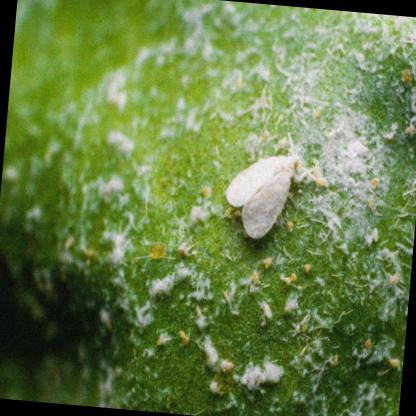whitefly: (225, 154, 296, 240)
